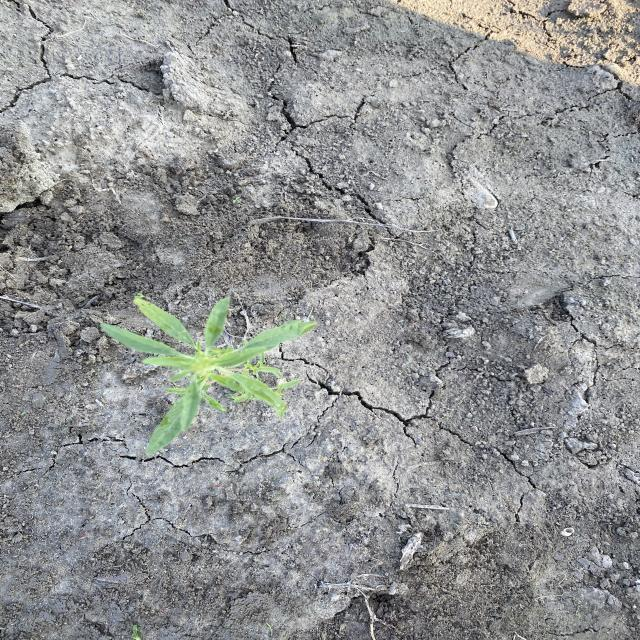Waterhemp: (96, 294, 321, 458)
